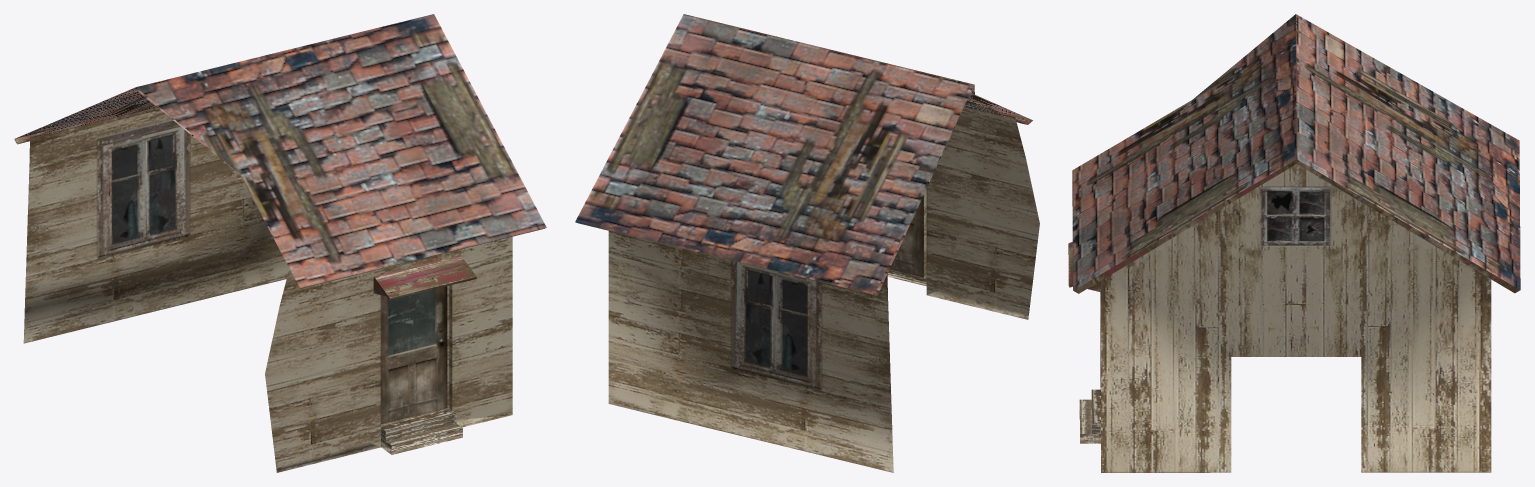
File: House_01_01.fbx
3 renders of one model, left to right at view 1: azimuth 30°, elevation 25°; view 2: azimuth 150°, elevation 25°; view 3: azimuth 270°, elevation 25°, orthographic. The views are drawn at different scales.
Visible parts, largest first — view 1: Cube.001; view 2: Cube.001; view 3: Cube.001.
Boxes of the visible parts, x1,y1,x2,y2 form: Cube.001: (14,14,546,472); Cube.001: (575,14,1039,472); Cube.001: (1068,14,1520,472).
Size of the model in its own units: 14.05 by 13.89 by 17.6.
